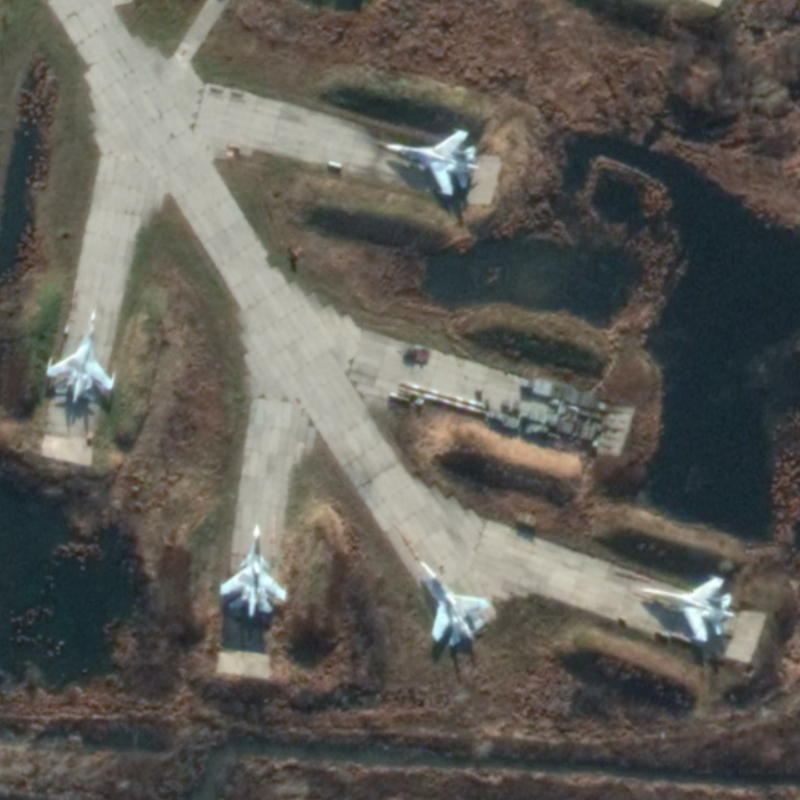A1: (375, 123, 481, 201), (634, 572, 739, 647), (43, 308, 119, 406), (415, 557, 494, 650)
A19: (217, 521, 290, 619)
